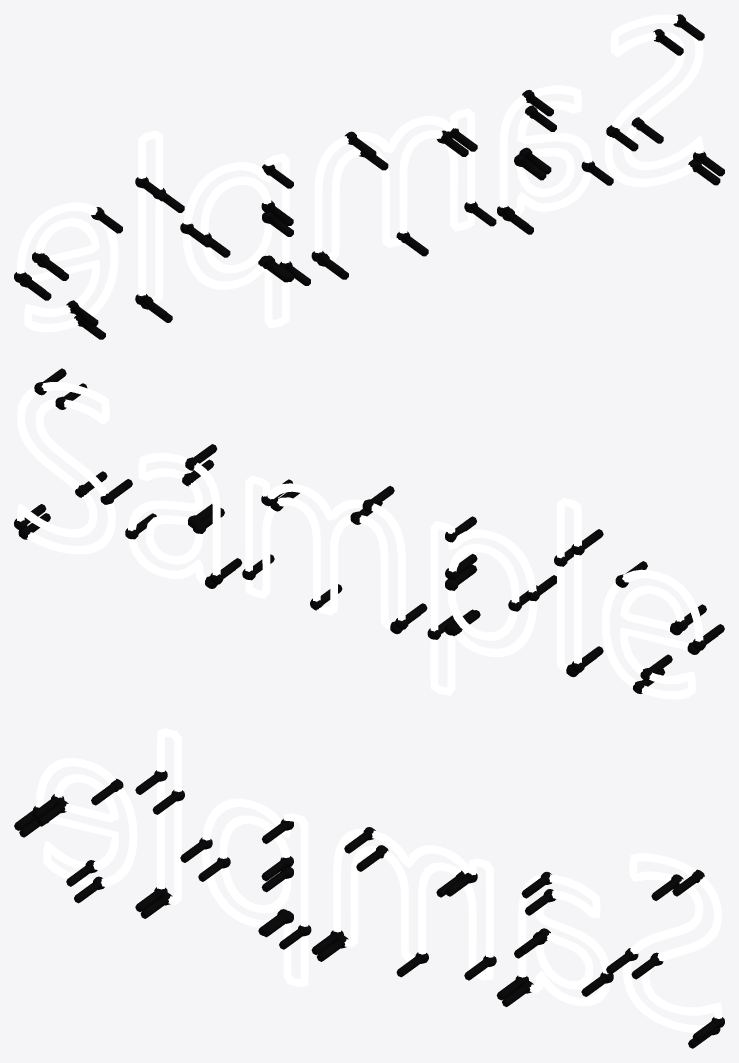
File: neon_Sample.fbx
3 views of the same model, one above another, from view 1: azimuth 30°, elevation 25°; view 2: azimuth 150°, elevation 25°; view 3: azimuth 330°, elevation 25° (orthographic).
Visible parts, largest first — view 1: NeonEnglish; view 2: NeonEnglish; view 3: NeonEnglish.
Boxes of the visible parts, box(x1,y1,x2,y2) form: NeonEnglish: box(14, 14, 724, 339); NeonEnglish: box(14, 368, 724, 699); NeonEnglish: box(14, 728, 724, 1048).
Size of the model in its own units: 342 by 107 by 21.29.
